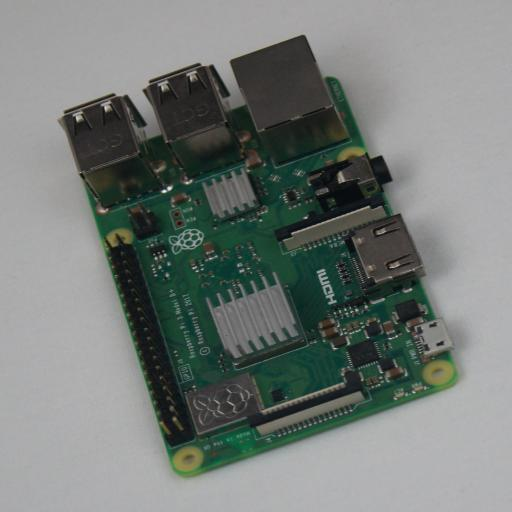Raspberry Pi 3 B-: (59, 34, 456, 474)
